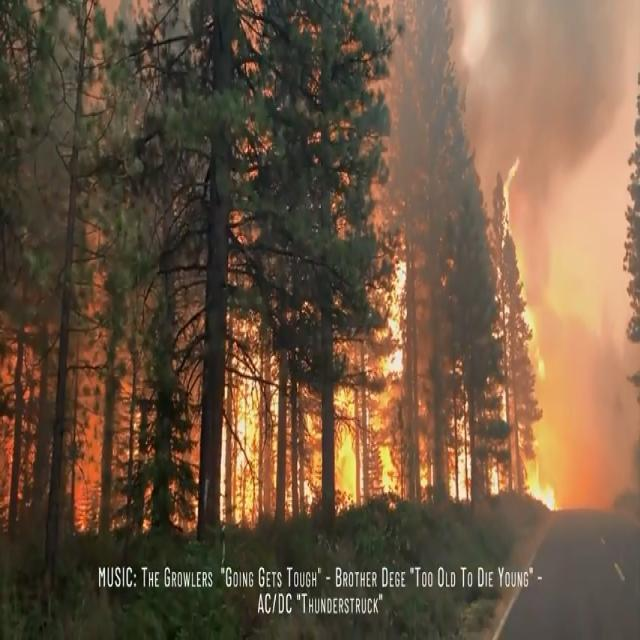Fire: (216, 246, 556, 514)
